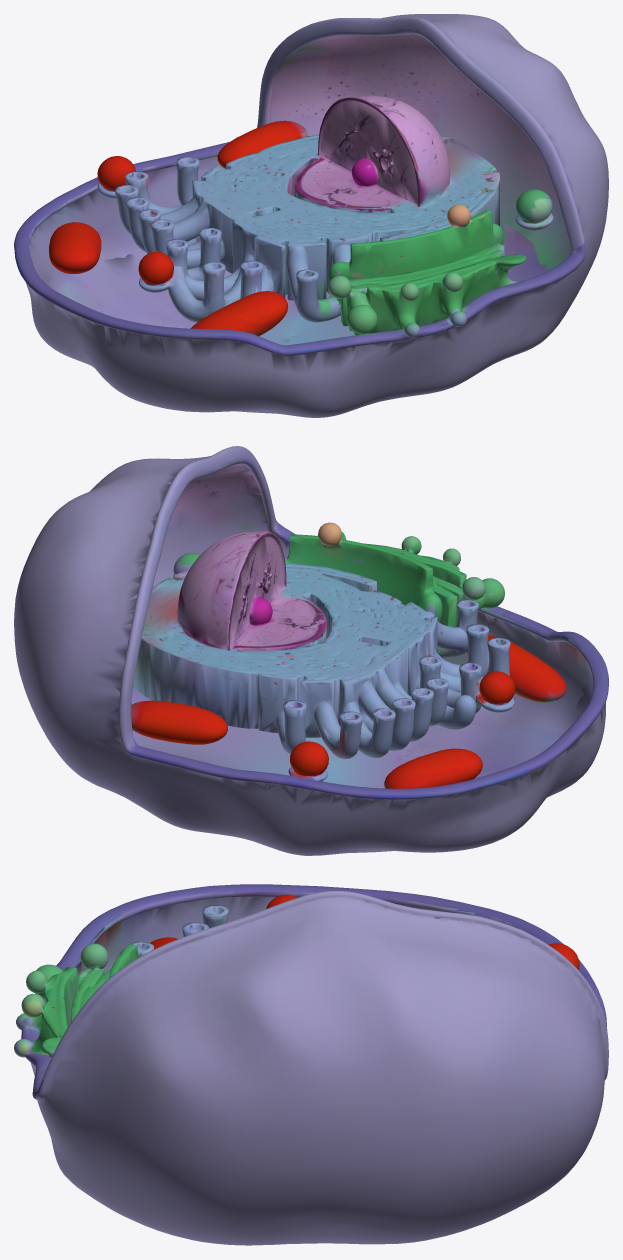
Rendered from cell Texture.glb.
The picture shows the model from 3 angles, top to bottom: view 1: azimuth 30°, elevation 25°; view 2: azimuth 150°, elevation 25°; view 3: azimuth 270°, elevation 25°; orthographic projection. The views are drawn at different scales.
Parts seen in each view (by area): view 1: kaedim_mesh_1; view 2: kaedim_mesh_1; view 3: kaedim_mesh_1.
Boxes of the visible parts, left/top/right/bottom form: kaedim_mesh_1: left=14, top=14, right=608, bottom=417; kaedim_mesh_1: left=14, top=446, right=608, bottom=855; kaedim_mesh_1: left=14, top=884, right=608, bottom=1245.
Size of the model in its own units: 3.43 by 2 by 2.9.
Materials: 1 (1 with a texture image).
